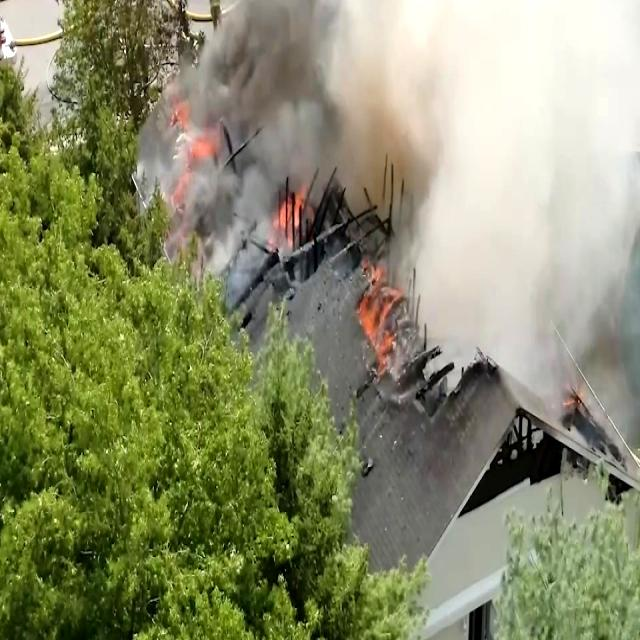smoke: (428, 0, 640, 323), (213, 0, 370, 164)
